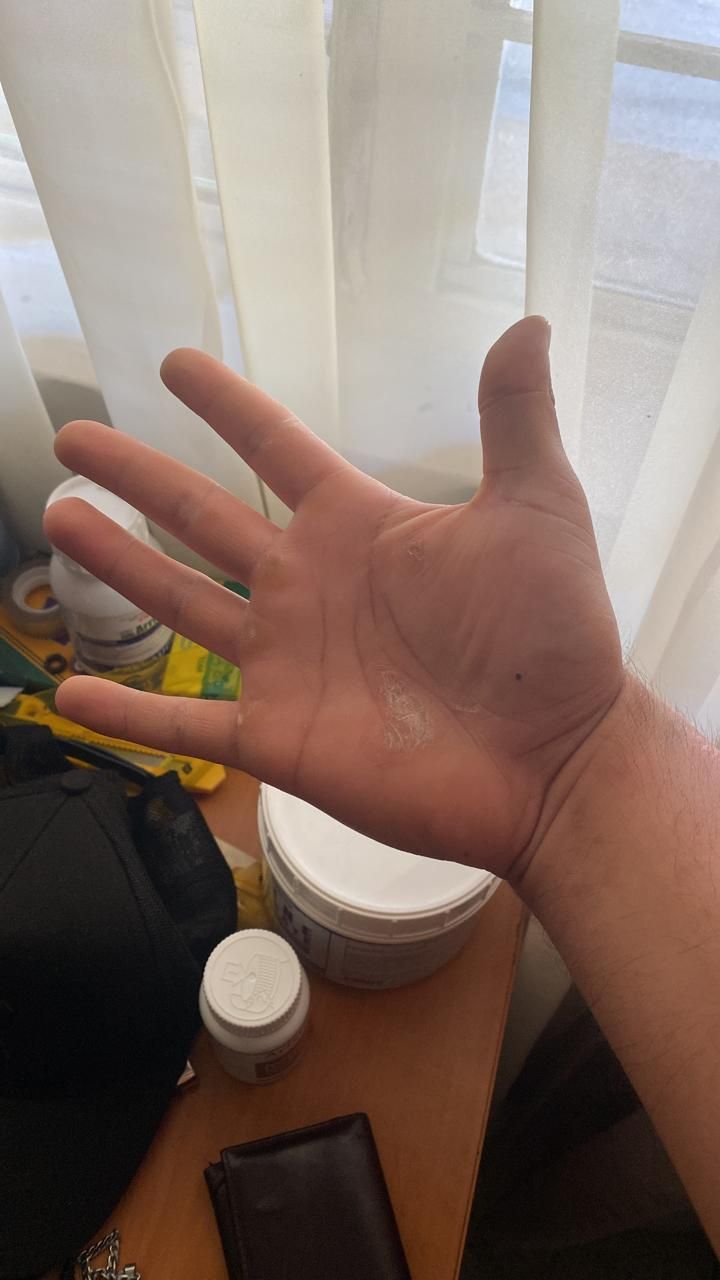Paper: (24, 303, 660, 893)
